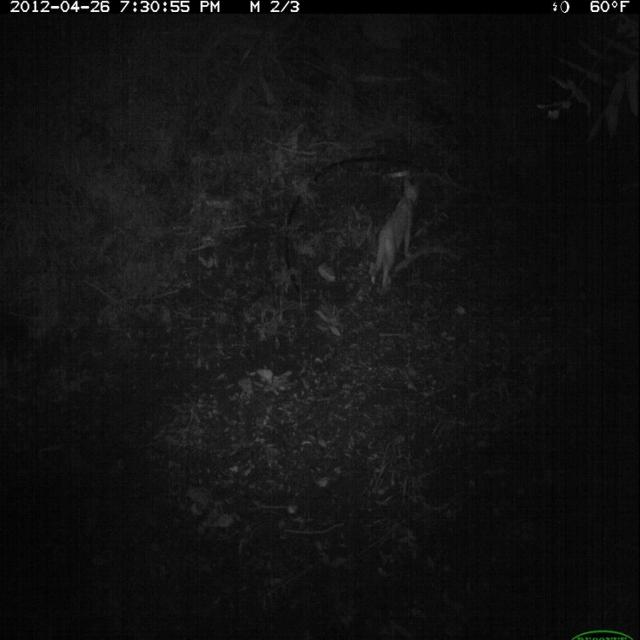cat: (368, 172, 424, 299)
